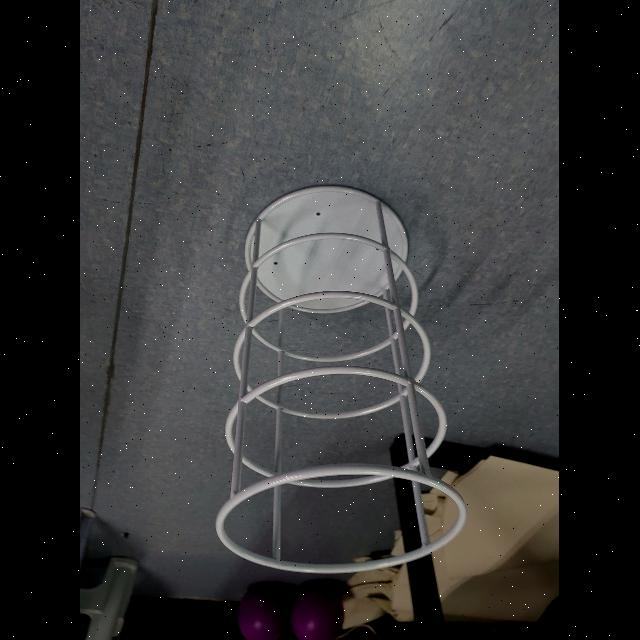S: (212, 181, 468, 577)
